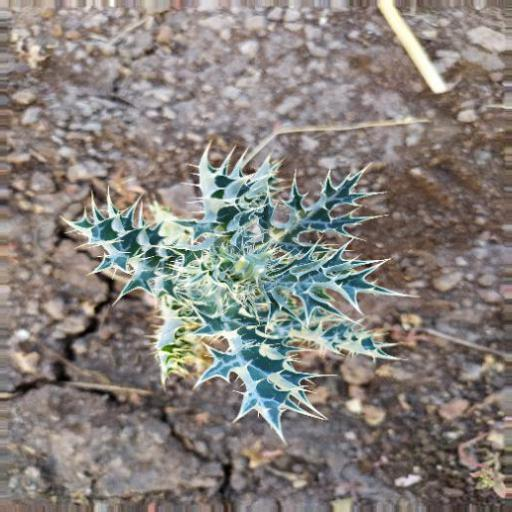weed: (63, 144, 414, 443)
